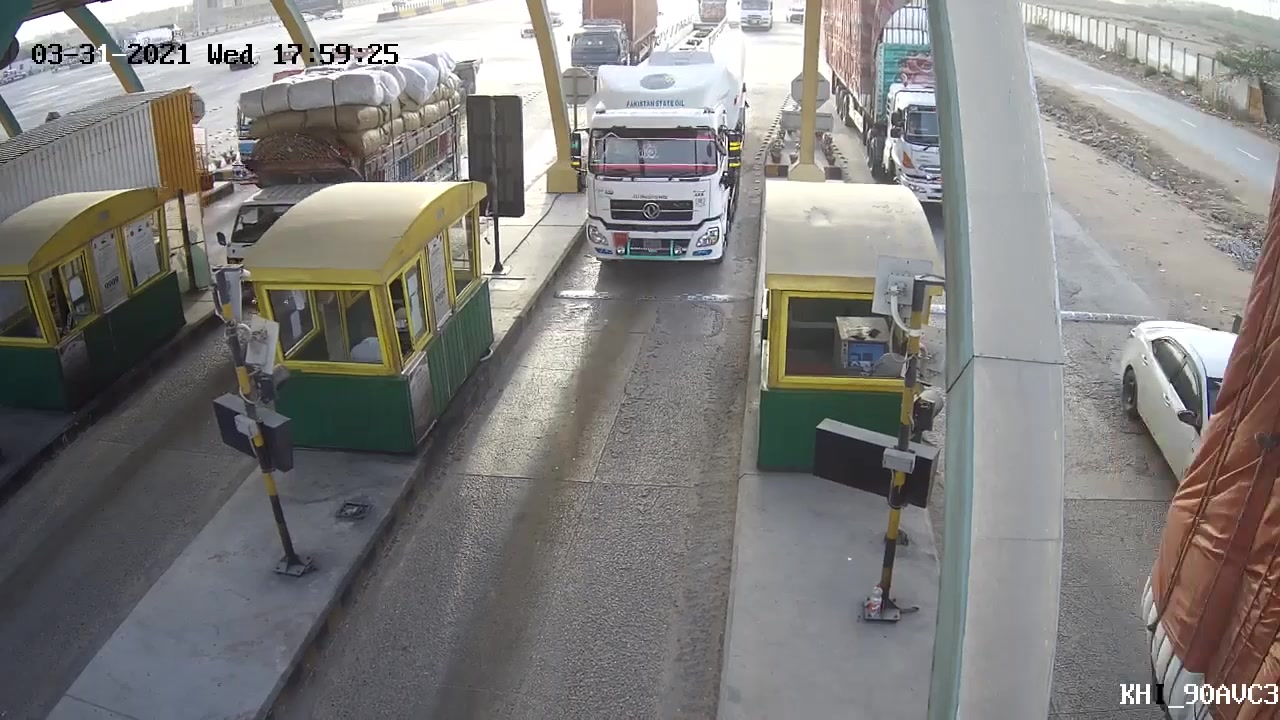F6: (562, 11, 755, 267)
